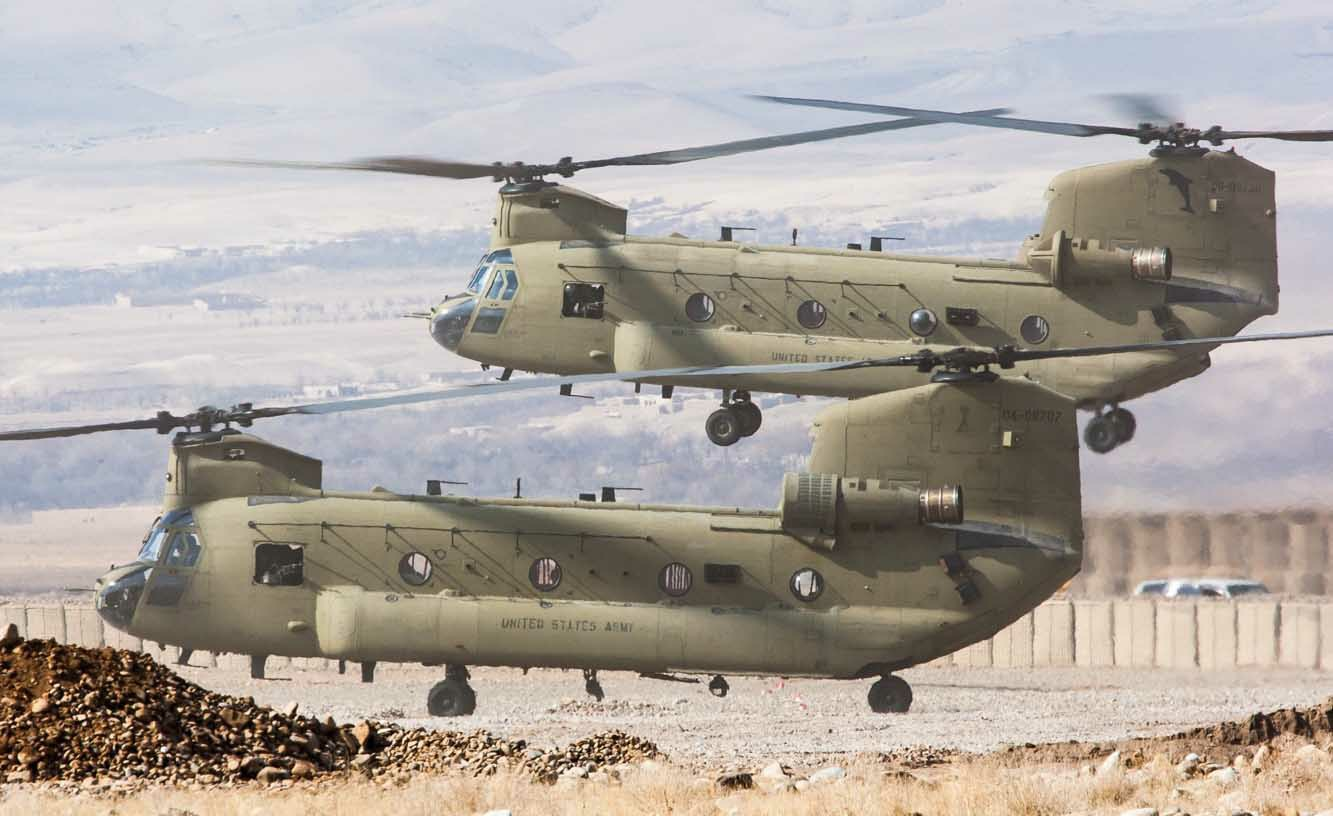chinook: (77, 309, 1126, 725), (397, 70, 1299, 466)
